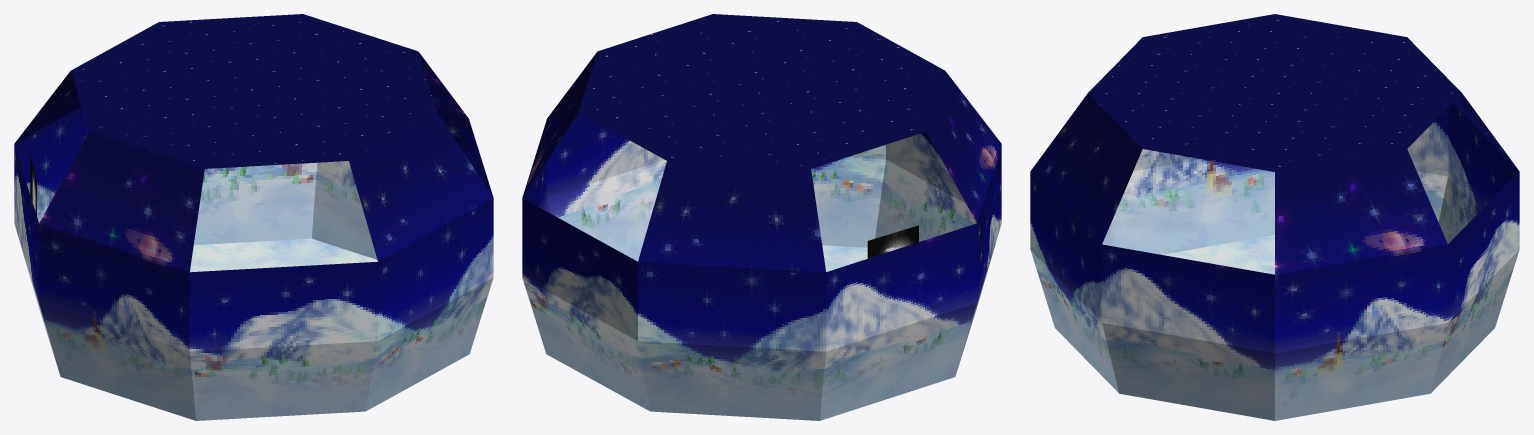
The model's file is sky.dae.
The picture shows the model from 3 angles, left to right: view 1: azimuth 30°, elevation 25°; view 2: azimuth 150°, elevation 25°; view 3: azimuth 270°, elevation 25°; orthographic projection.
Visible parts, largest first — view 1: Nemu_34D830D3_0_15, Nemu_2D5CDA13_0_27, Nemu_4B66266D_0_20, Nemu_198F736F_0_23, Nemu_2FF73652_0_28, Nemu_26B54C8E_0_18, Nemu_73DEEF12_0_22, Nemu_55063D3A_0_24, Nemu_10F4C602_0_26, Nemu_17438011_0_16, Nemu_84462AE_0_21; view 2: Nemu_34D830D3_0_15, Nemu_10F4C602_0_26, Nemu_84462AE_0_21, Nemu_26B54C8E_0_18, Nemu_7F6CF2D0_0_25, Nemu_73DEEF12_0_22, Nemu_2D5CDA13_0_27, Nemu_198F736F_0_23, Nemu_4B66266D_0_20, Nemu_55063D3A_0_24, Nemu_4595DB38_0_29, Nemu_17438011_0_16; view 3: Nemu_34D830D3_0_15, Nemu_2FF73652_0_28, Nemu_4B66266D_0_20, Nemu_84462AE_0_21, Nemu_55063D3A_0_24, Nemu_7F6CF2D0_0_25, Nemu_73DEEF12_0_22, Nemu_26B54C8E_0_18, Nemu_198F736F_0_23, Nemu_10F4C602_0_26, Nemu_2D5CDA13_0_27, Nemu_17438011_0_16.
Boxes of the visible parts, bbox=[...] form: Nemu_34D830D3_0_15: bbox=[71, 14, 436, 168]; Nemu_2D5CDA13_0_27: bbox=[190, 162, 377, 420]; Nemu_4B66266D_0_20: bbox=[39, 52, 468, 271]; Nemu_198F736F_0_23: bbox=[189, 261, 377, 351]; Nemu_2FF73652_0_28: bbox=[39, 161, 377, 420]; Nemu_26B54C8E_0_18: bbox=[14, 71, 493, 261]; Nemu_73DEEF12_0_22: bbox=[14, 106, 493, 340]; Nemu_55063D3A_0_24: bbox=[39, 108, 468, 351]; Nemu_10F4C602_0_26: bbox=[37, 204, 493, 410]; Nemu_17438011_0_16: bbox=[190, 238, 377, 272]; Nemu_84462AE_0_21: bbox=[14, 119, 493, 301]; Nemu_34D830D3_0_15: bbox=[579, 14, 944, 168]; Nemu_10F4C602_0_26: bbox=[638, 157, 885, 420]; Nemu_84462AE_0_21: bbox=[547, 112, 976, 351]; Nemu_26B54C8E_0_18: bbox=[638, 161, 825, 272]; Nemu_7F6CF2D0_0_25: bbox=[547, 160, 976, 420]; Nemu_73DEEF12_0_22: bbox=[638, 145, 885, 351]; Nemu_2D5CDA13_0_27: bbox=[522, 160, 976, 410]; Nemu_198F736F_0_23: bbox=[522, 131, 965, 340]; Nemu_4B66266D_0_20: bbox=[522, 52, 1001, 222]; Nemu_55063D3A_0_24: bbox=[522, 144, 1001, 301]; Nemu_4595DB38_0_29: bbox=[867, 225, 918, 258]; Nemu_17438011_0_16: bbox=[636, 245, 867, 271]; Nemu_34D830D3_0_15: bbox=[1088, 14, 1461, 171]; Nemu_2FF73652_0_28: bbox=[1111, 159, 1447, 420]; Nemu_4B66266D_0_20: bbox=[1275, 149, 1447, 274]; Nemu_84462AE_0_21: bbox=[1102, 108, 1447, 352]; Nemu_55063D3A_0_24: bbox=[1133, 149, 1447, 352]; Nemu_7F6CF2D0_0_25: bbox=[1102, 171, 1447, 420]; Nemu_73DEEF12_0_22: bbox=[1030, 103, 1519, 322]; Nemu_26B54C8E_0_18: bbox=[1030, 93, 1518, 243]; Nemu_198F736F_0_23: bbox=[1448, 171, 1519, 322]; Nemu_10F4C602_0_26: bbox=[1030, 177, 1480, 393]; Nemu_2D5CDA13_0_27: bbox=[1102, 223, 1519, 393]; Nemu_17438011_0_16: bbox=[1162, 235, 1274, 274].
Bounding box in the file's own units: 17551 × 9301 × 17551.
15 materials, 15 textured.
